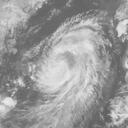cyclone: (30, 19, 109, 94)
